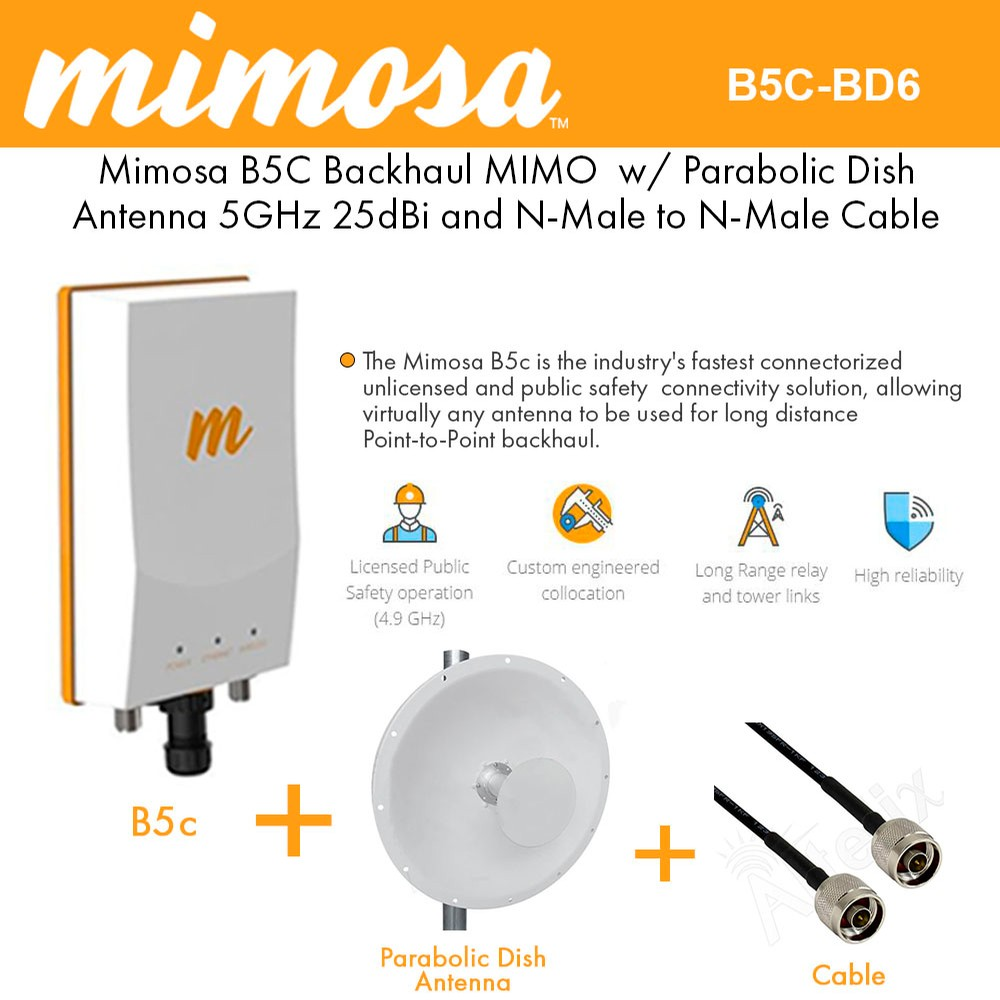ba: (362, 625, 619, 943)
